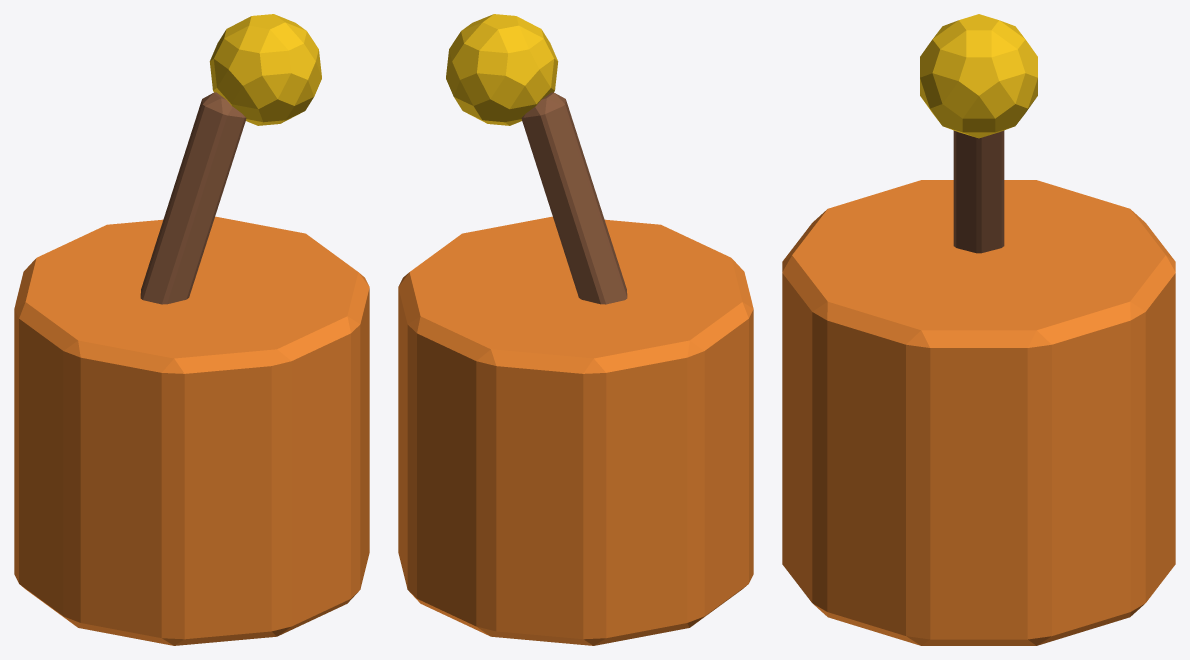
The model's file is fuse_starter.glb.
3 renders of one model, left to right at view 1: azimuth 30°, elevation 25°; view 2: azimuth 150°, elevation 25°; view 3: azimuth 270°, elevation 25°, orthographic. The views are drawn at different scales.
Visible parts, largest first — view 1: fuse_starter; view 2: fuse_starter; view 3: fuse_starter.
Part boxes in pixels (left/top/right/bottom): fuse_starter: left=14, top=14, right=369, bottom=645; fuse_starter: left=398, top=14, right=753, bottom=645; fuse_starter: left=782, top=14, right=1175, bottom=645.
Size of the model in its own units: 0.1427 by 0.2419 by 0.1469.
